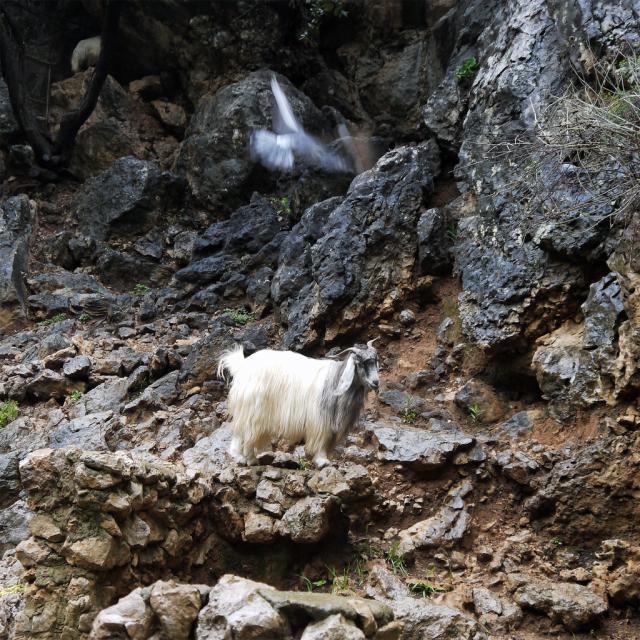Goat: (217, 336, 380, 473)
